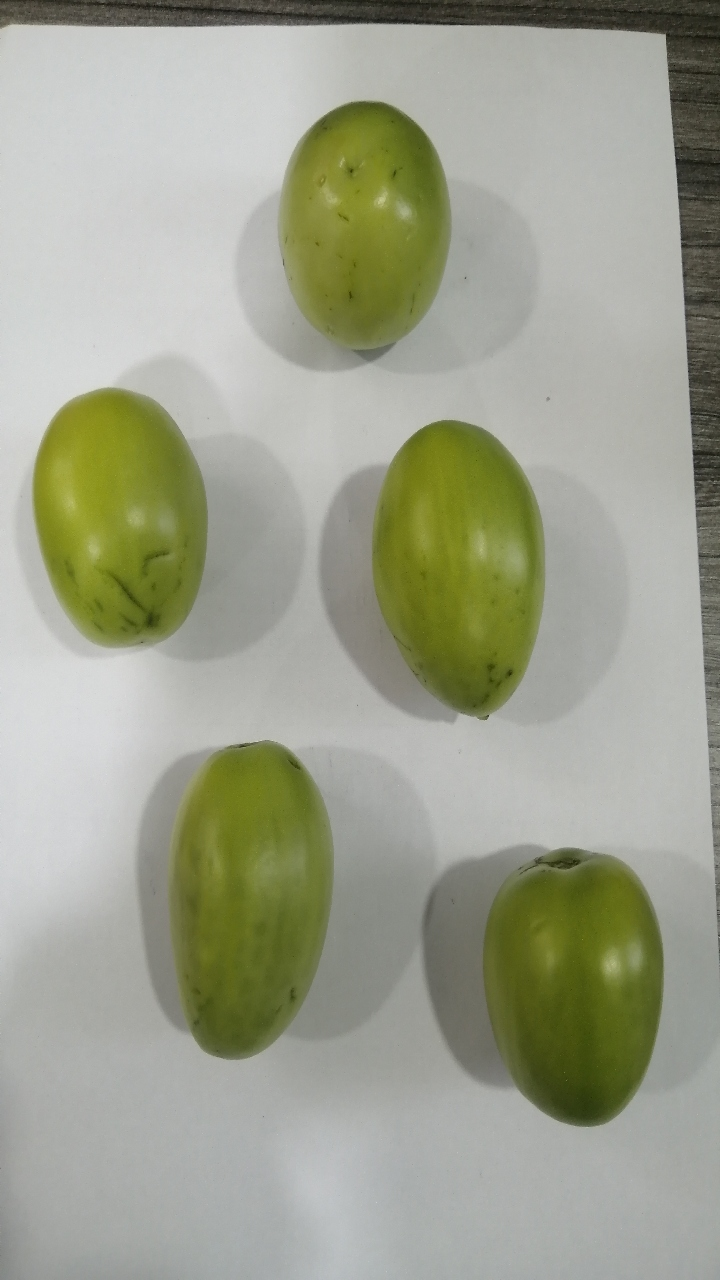tomateVerde: (134, 709, 344, 1074), (457, 822, 671, 1146), (348, 399, 558, 728), (23, 372, 232, 672), (263, 77, 464, 369)
